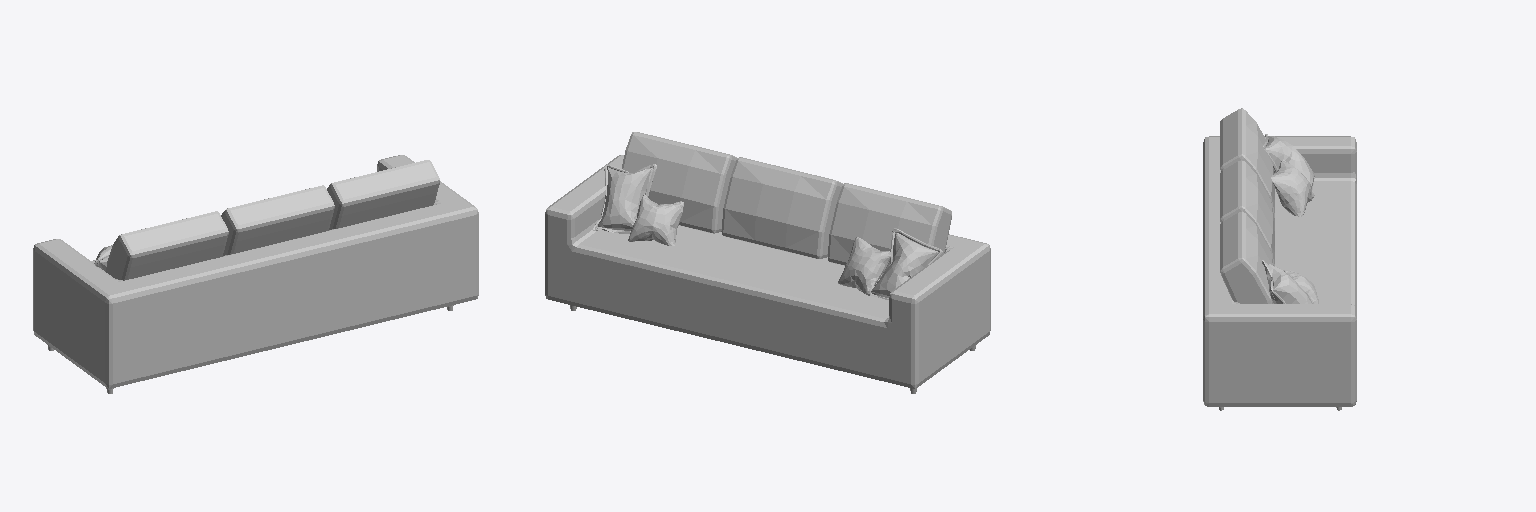
The model's file is Sofa.obj.
The picture shows the model from 3 angles: view 1: azimuth 30°, elevation 25°; view 2: azimuth 150°, elevation 25°; view 3: azimuth 270°, elevation 25°; orthographic projection.
Parts seen in each view (by area): view 1: pCylinder6; view 2: pCylinder6; view 3: pCylinder6.
Part boxes in pixels (x1,y1,x2,y2): pCylinder6: (33,155,478,393); pCylinder6: (545,132,990,393); pCylinder6: (1203,108,1356,410).
Bounding box in the file's own units: 2.55 × 0.9544 × 0.9101.